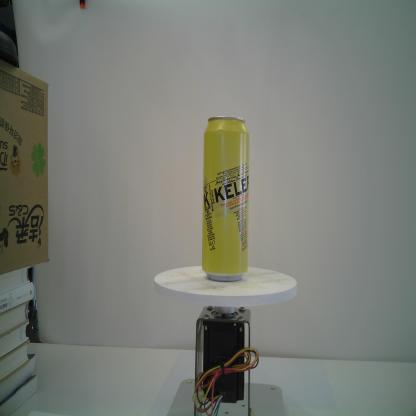Alcohol: (201, 116, 250, 283)
